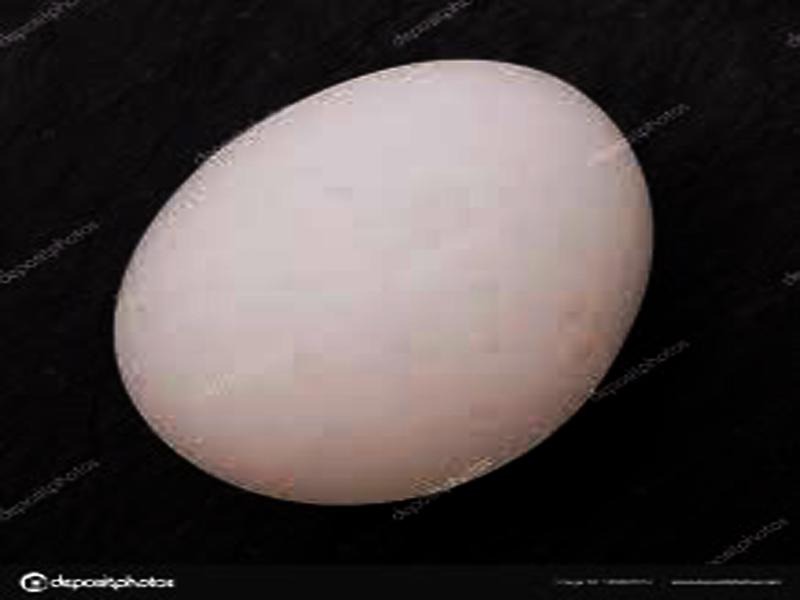Eggs: (114, 62, 653, 506)
